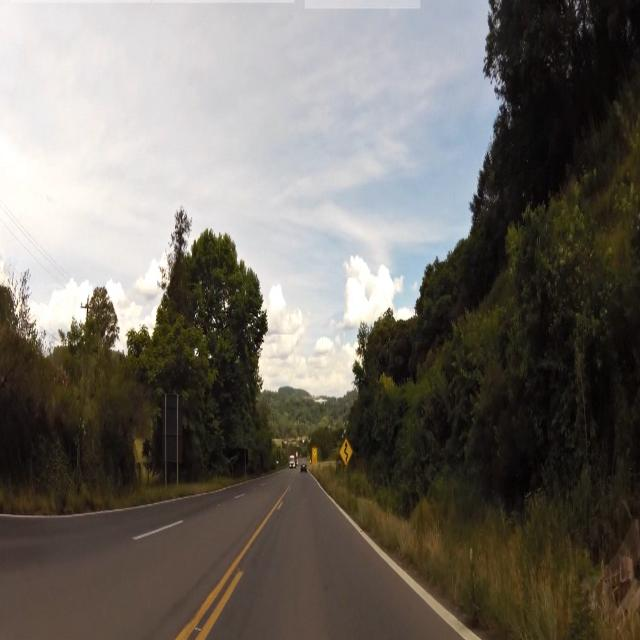A-3b: (338, 437, 356, 467)
